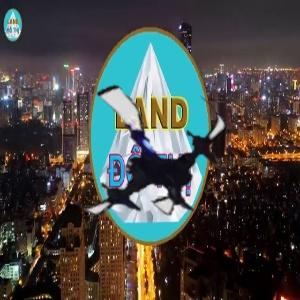drone: (54, 65, 232, 243)
